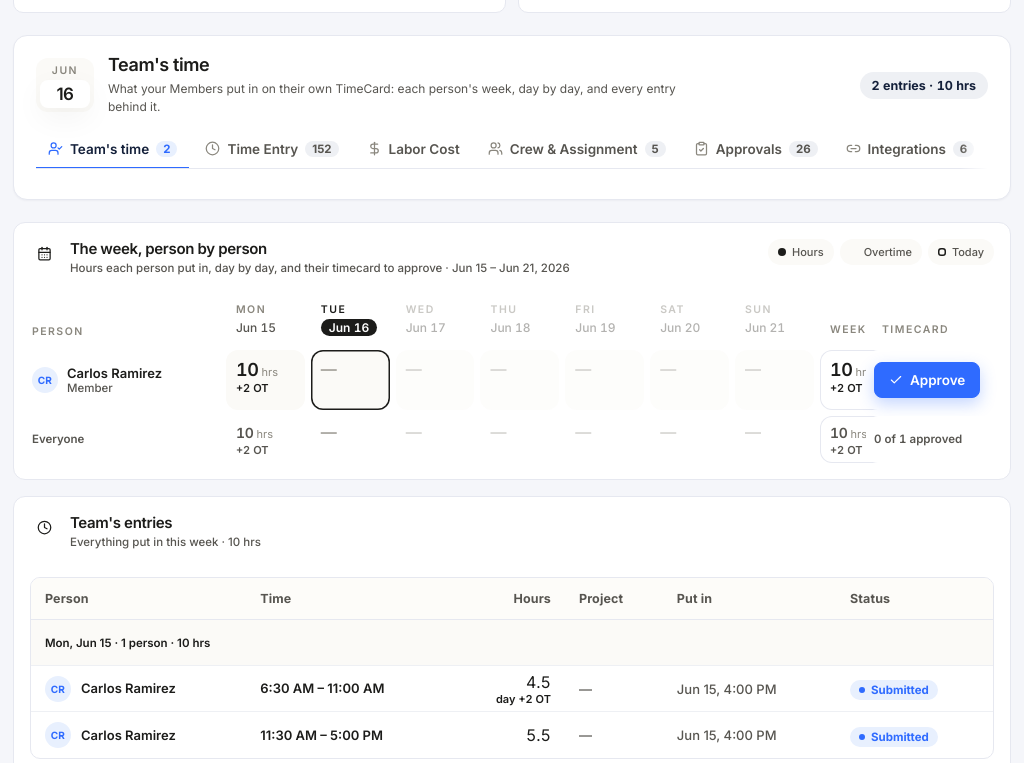
it: approving a person's timecard › shows the approval the moment the server answers, not only once the week is read again
(page scrolled)
Click the button with aria-label "Approve Carlos Ramirez's timecard": (927, 380) [874,362,980,398]
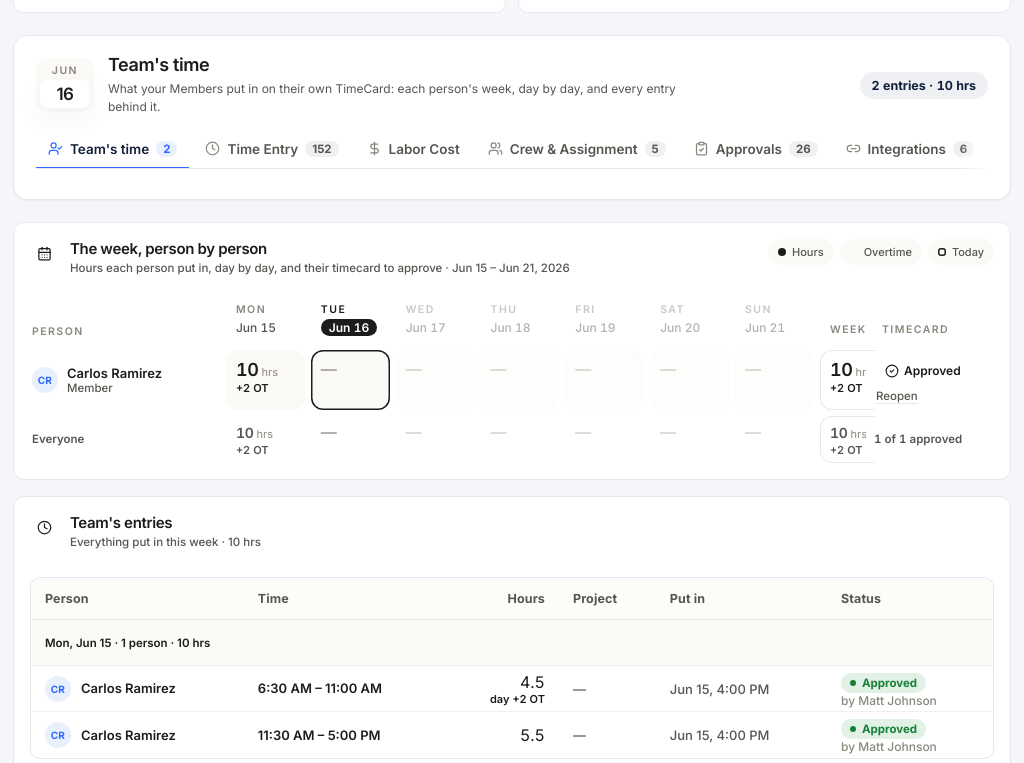
Now the text "Approved" is shown, box [885,364,961,378]
